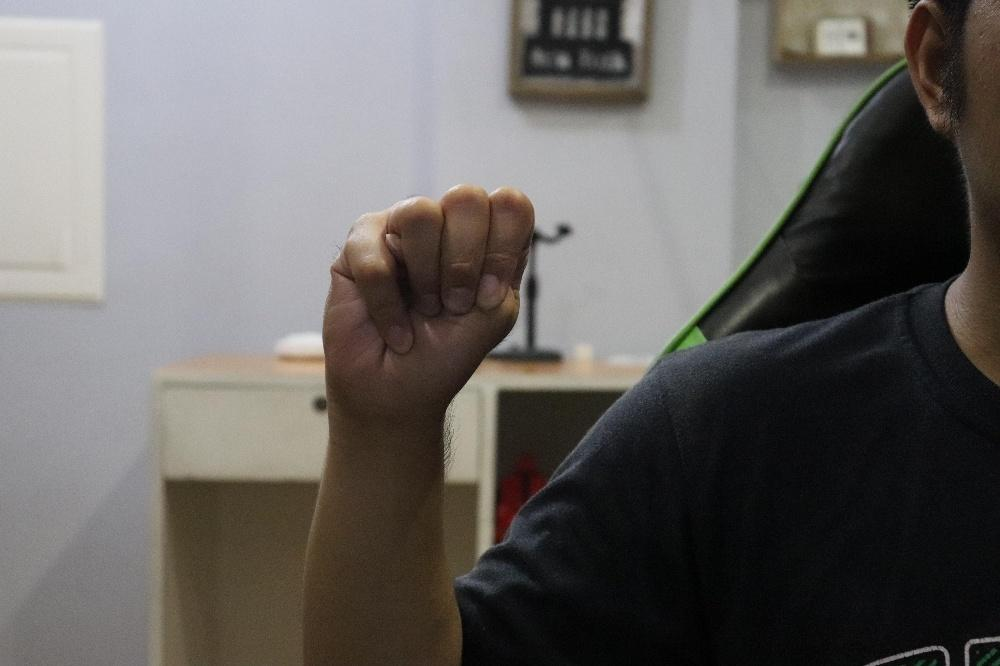m: (320, 178, 535, 420)
